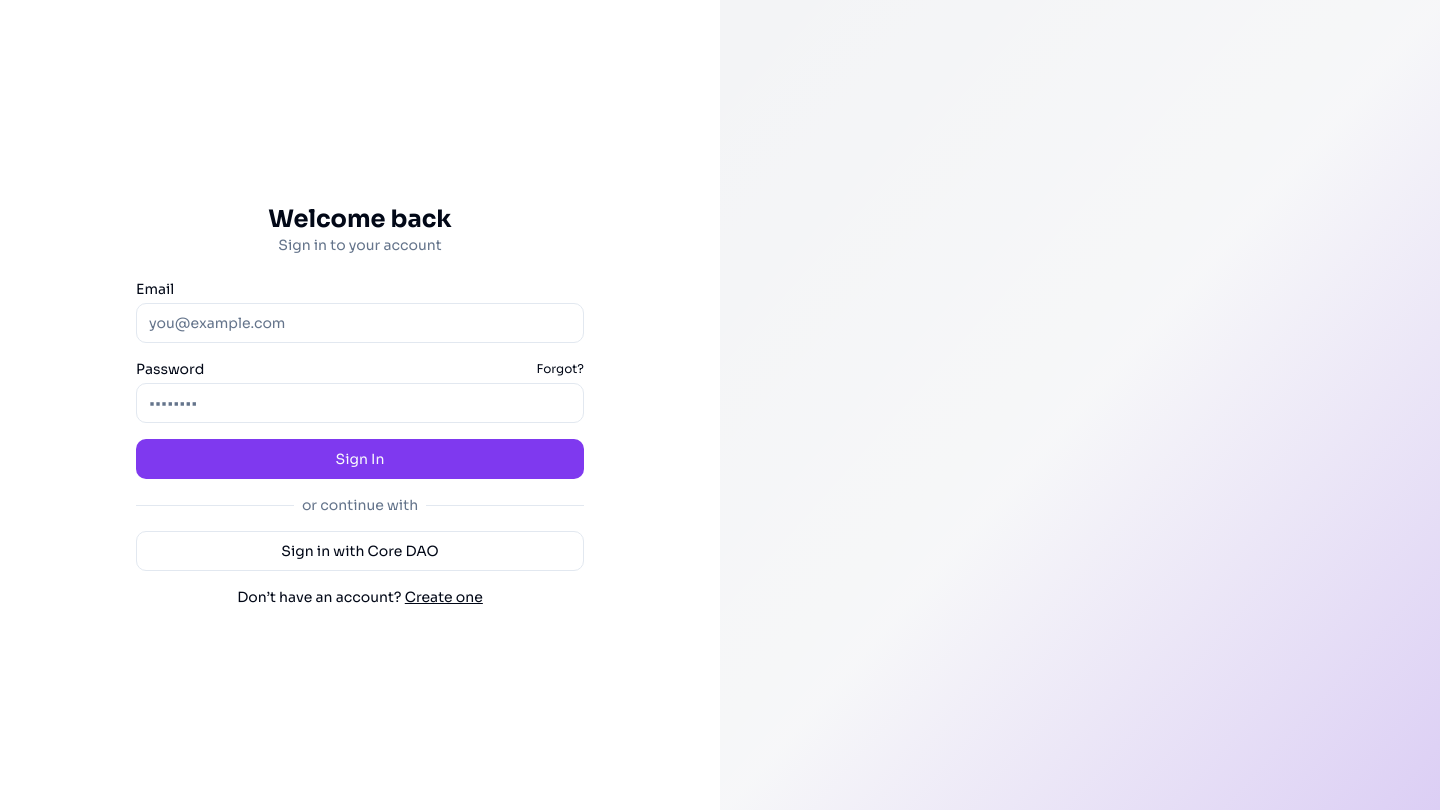
Test: Login page › shows validation errors for empty fields
Click the button "Sign In" at (360, 459), box [136,439,584,479]
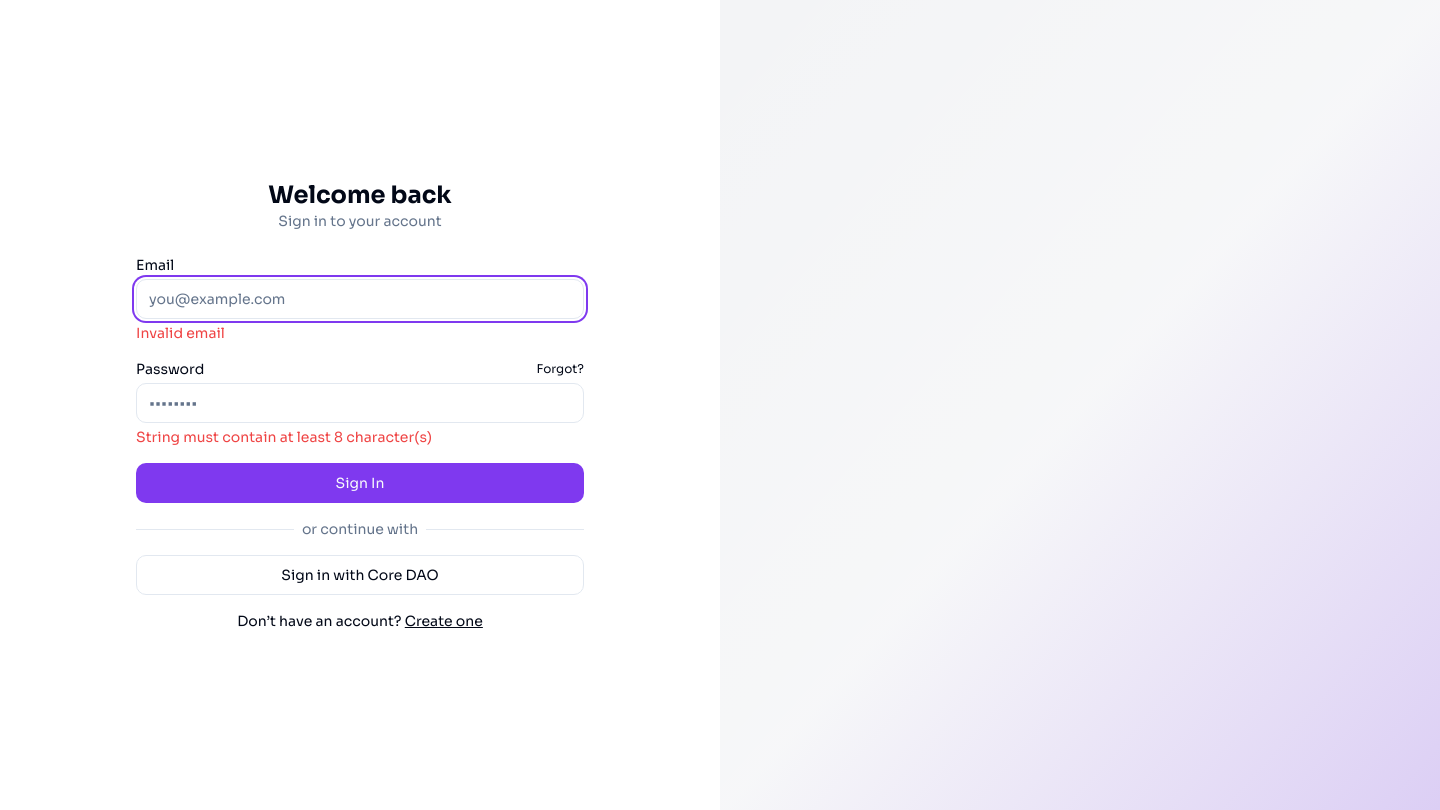
Check: the text "Invalid email" is shown, box [136,324,225,342]
Check: the text "String must contain at least 8 character(s)" is shown, box [136,428,432,446]
